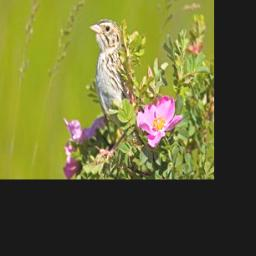Sparrow: (86, 14, 136, 135)
